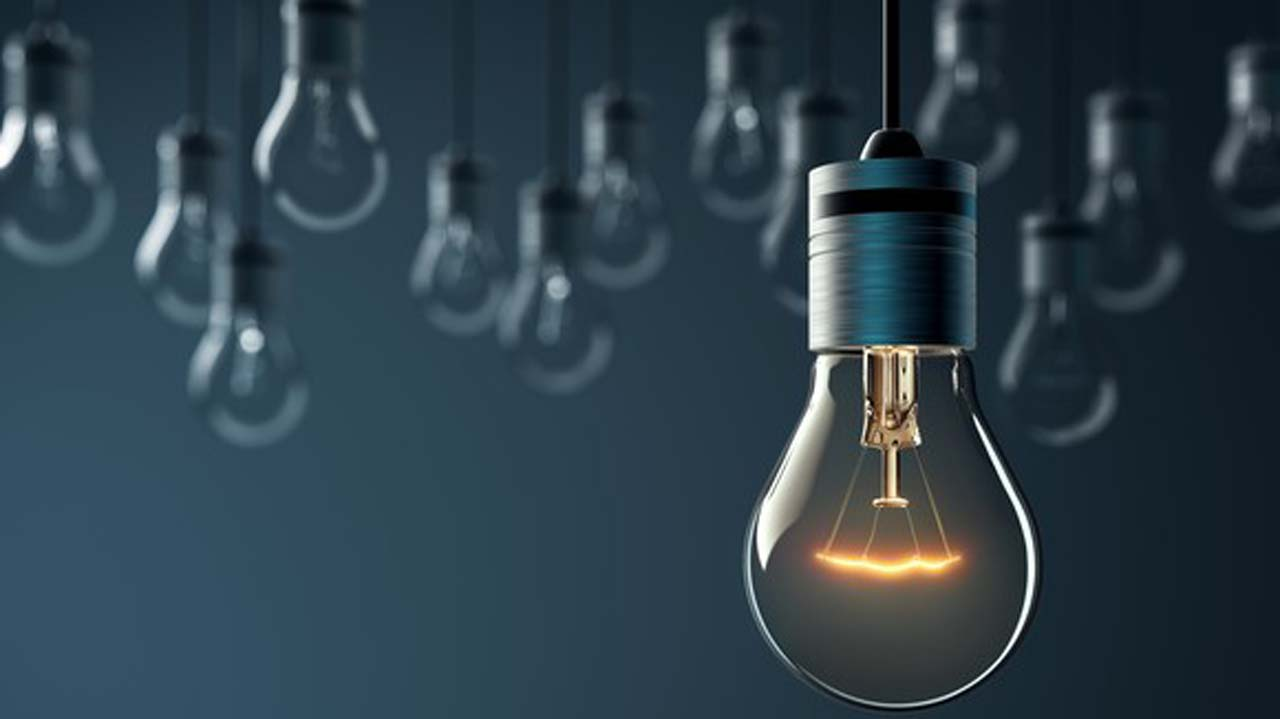Nonrec_Glass: (712, 95, 1068, 709)
